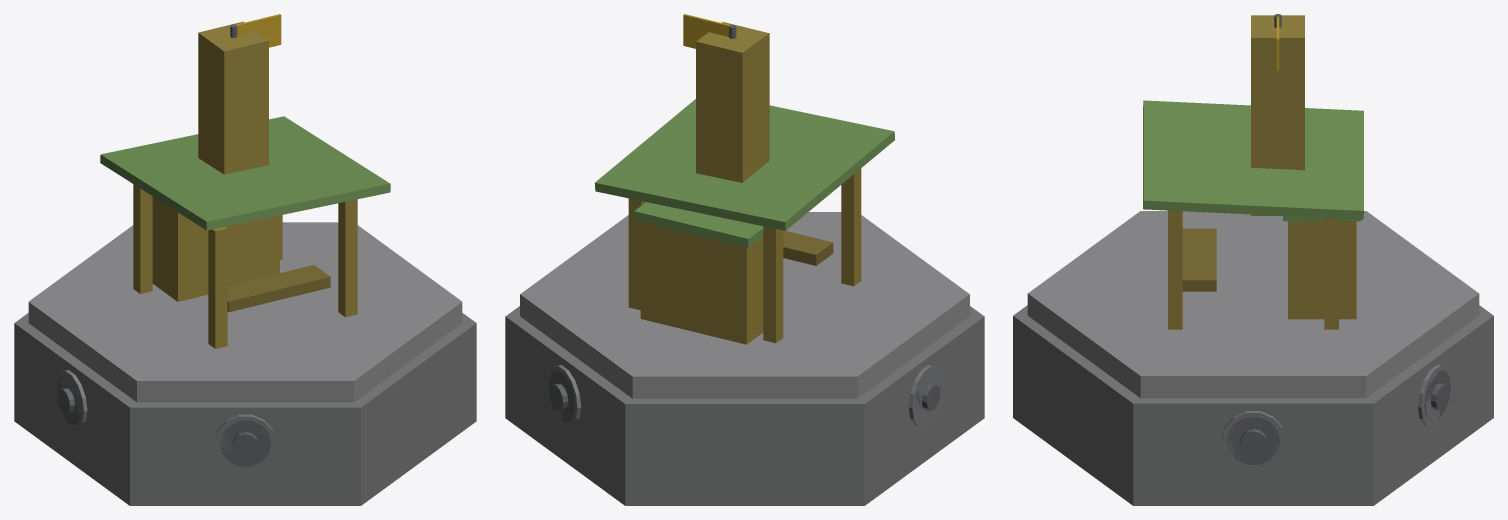
File: trading_post_s2_ruin.glb
The picture shows the model from 3 angles, left to right: view 1: azimuth 30°, elevation 25°; view 2: azimuth 150°, elevation 25°; view 3: azimuth 270°, elevation 25°; orthographic projection. The views are drawn at different scales.
Parts seen in each view (by area): view 1: TP_Base; view 2: TP_Base; view 3: TP_Base.
Boxes of the visible parts, x1,y1,x2,y2 form: TP_Base: (14, 14, 476, 505); TP_Base: (505, 14, 984, 505); TP_Base: (1013, 14, 1493, 505).
Bounding box in the file's own units: 1.78 × 1.81 × 1.96.
